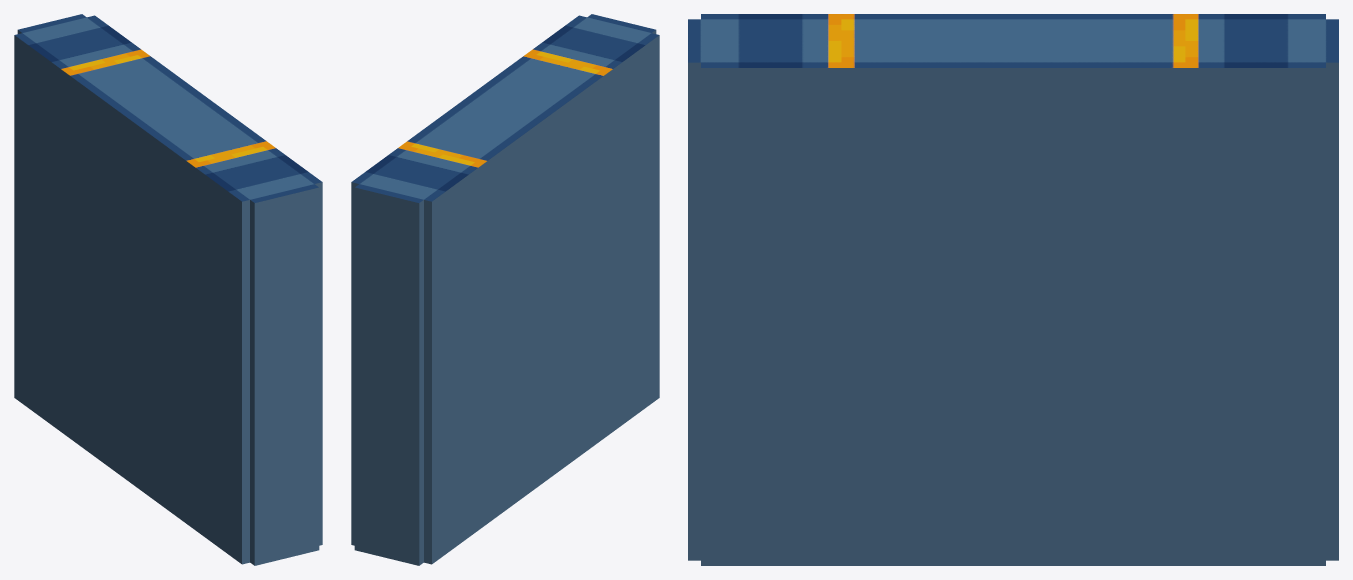
File: book4.glb
The picture shows the model from 3 angles, left to right: view 1: azimuth 30°, elevation 25°; view 2: azimuth 150°, elevation 25°; view 3: azimuth 270°, elevation 25°; orthographic projection. The views are drawn at different scales.
Parts seen in each view (by area): view 1: book4-col; view 2: book4-col; view 3: book4-col.
Boxes of the visible parts, x1=… form: book4-col: x1=14, y1=14, x2=322, y2=565; book4-col: x1=351, y1=14, x2=659, y2=565; book4-col: x1=688, y1=14, x2=1338, y2=565.
Bounding box in the file's own units: 0.1562 × 0.673 × 0.7969.
Materials: 2 (1 with a texture image).
